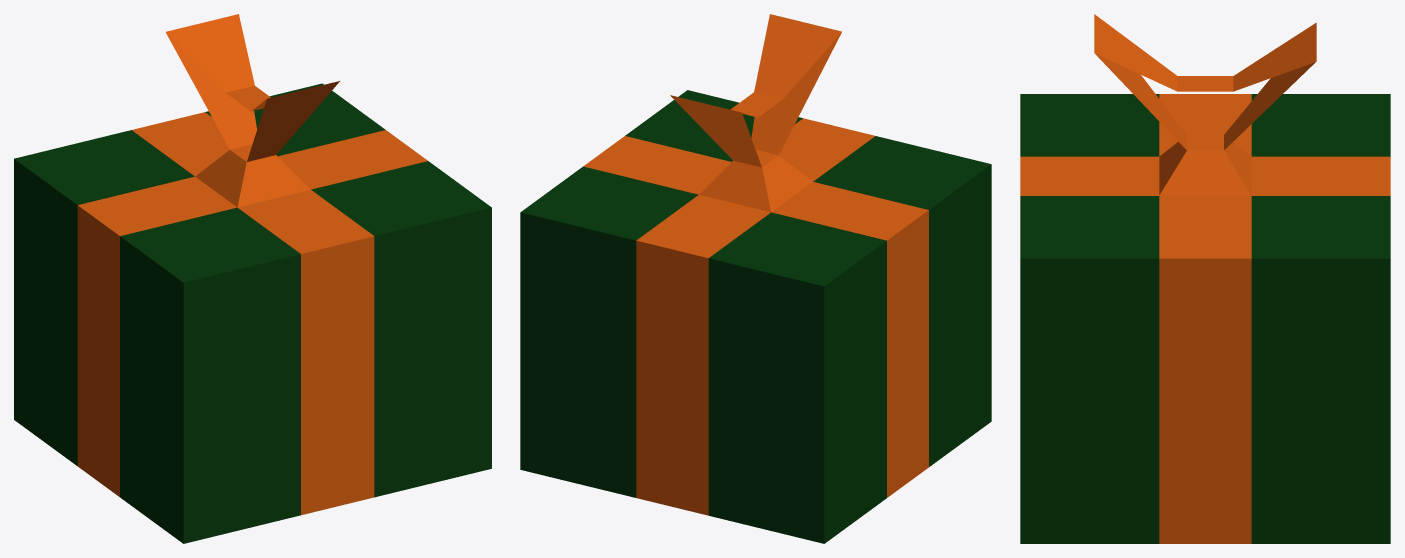
File: inv_research_package.obj
3 views of the same model, side by side, from view 1: azimuth 30°, elevation 25°; view 2: azimuth 150°, elevation 25°; view 3: azimuth 270°, elevation 25° (orthographic). The views are drawn at different scales.
Bounding box in the file's own units: 0.3281 × 0.3984 × 0.3125.
